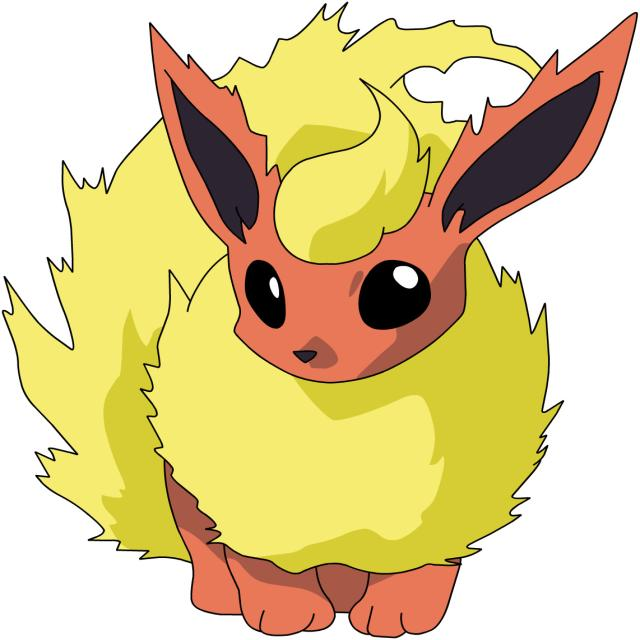Flareon: (125, 74, 568, 639)
